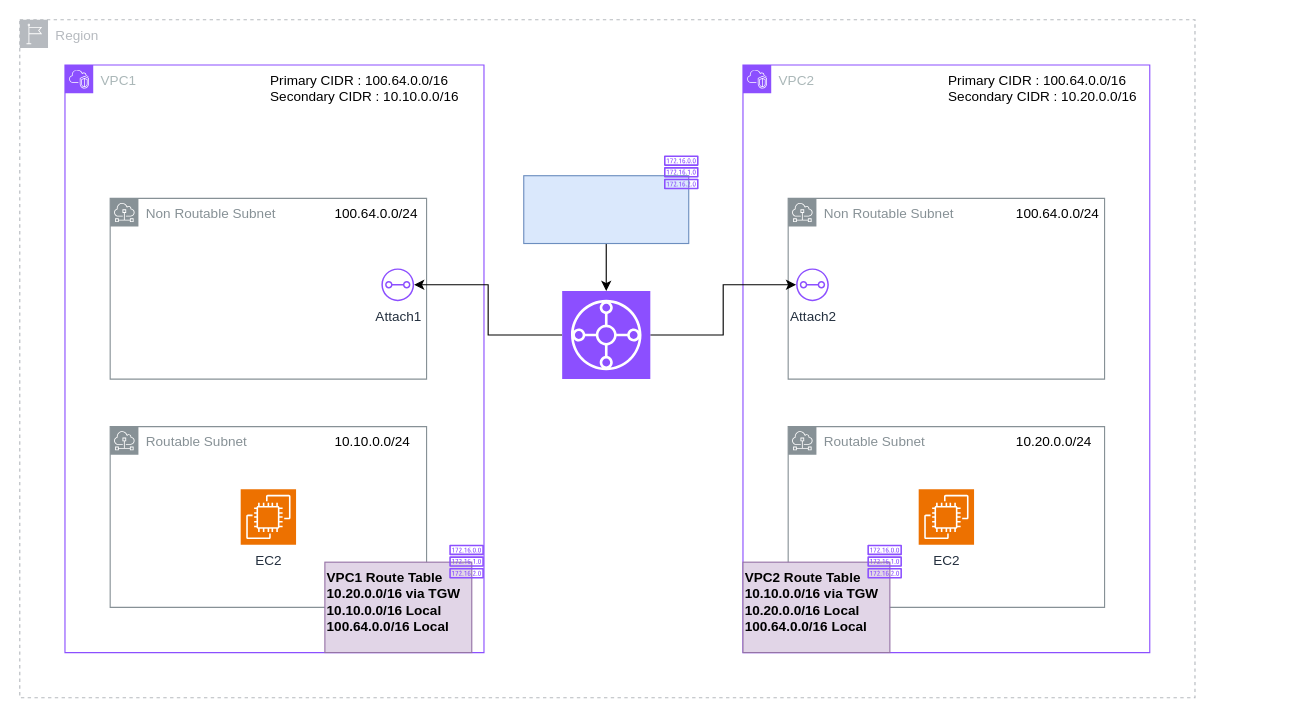
The diagram is 1294 pixels wide and 718 high, and some of its shapes have lost their labels. Each missing label, with the centre of its shape:
"TGW" belongs at pixel 605 334.
"TGW Route Table 10.10.0.0/16 via Attach1 10.20.0.0/16 via Attach2" belongs at pixel 606 209.
